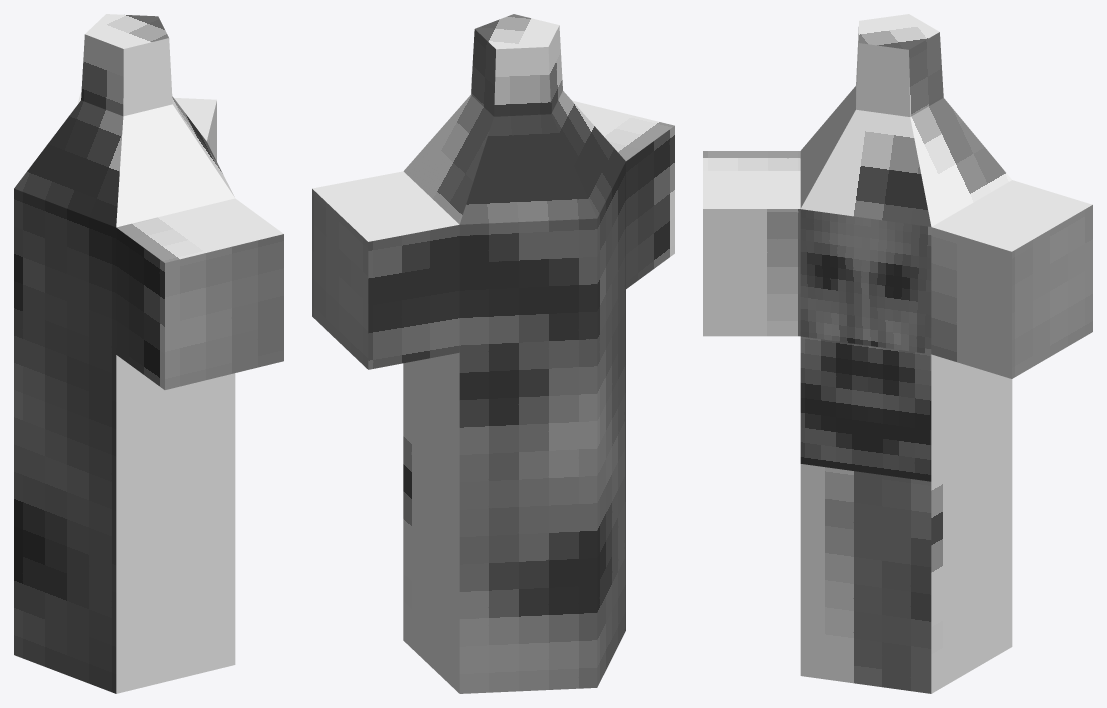
The model's file is Totem.glb.
3 renders of one model, left to right at view 1: azimuth 30°, elevation 25°; view 2: azimuth 150°, elevation 25°; view 3: azimuth 270°, elevation 25°, orthographic.
Parts seen in each view (by area): view 1: Totem; view 2: Totem; view 3: Totem.
Part boxes in pixels (bbox=[...]): Totem: bbox=[14, 14, 283, 693]; Totem: bbox=[312, 14, 674, 693]; Totem: bbox=[703, 14, 1092, 693].
Bounding box in the file's own units: 0.6004 × 1.45 × 0.8321.
Materials: 1 (1 with a texture image).
